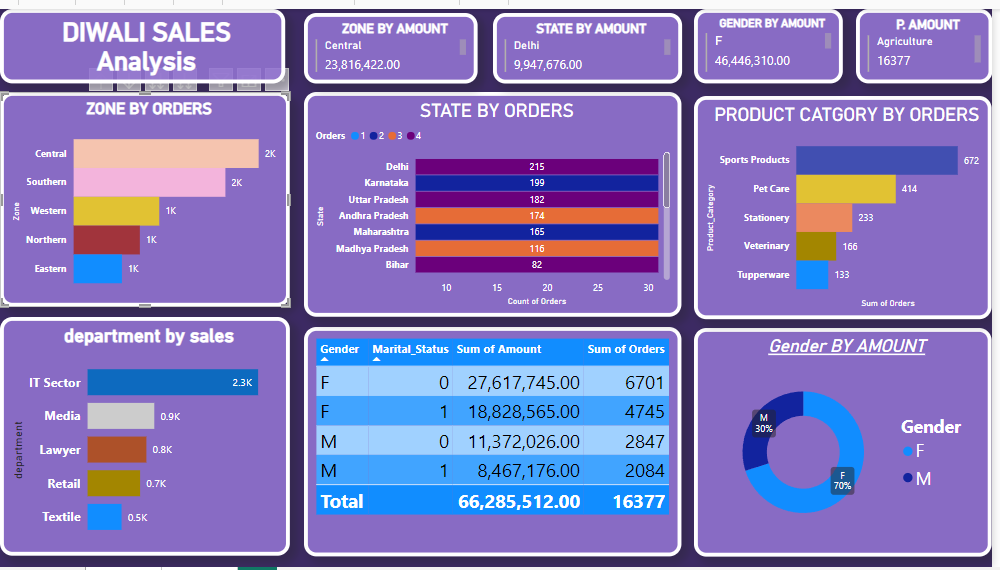

This screenshot's page, from the dashboard's own definition file:
{"tool":"powerbi","page":{"name":"Page 1","canvas":[1280,720],"ordinal":0},"visuals":[{"type":"tableEx","title":"Gender BY Orders","fields":{"Values":["Diwali Sales Data(1).Gender","Diwali Sales Data(1).Marital_Status","Sum(Diwali Sales Data(1).Amount)","Sum(Diwali Sales Data(1).Orders)"]},"box":[392.3,410.2,487.2,295.9],"z":0},{"type":"donutChart","title":"Gender BY AMOUNT","fields":{"Y":["Sum(Diwali Sales Data(1).Amount)"],"Category":["Diwali Sales Data(1).Gender"]},"box":[896,411.5,384,294.5],"z":1000},{"type":"barChart","title":"STATE BY ORDERS","fields":{"Category":["Diwali Sales Data(1).State"],"Y":["CountNonNull(Diwali Sales Data(1).Orders)"],"Series":["Diwali Sales Data(1).Orders"]},"box":[392.3,107.4,487.2,290.4],"z":2000},{"type":"barChart","title":"ZONE BY ORDERS","fields":{"Category":["Diwali Sales Data(1).Zone","Diwali Sales Data(1).Orders"],"Y":["CountNonNull(Diwali Sales Data(1).Zone)"]},"box":[0,107.4,374.4,276.6],"z":3000},{"type":"barChart","title":"PRODUCT CATGORY BY ORDERS","fields":{"Category":["Diwali Sales Data(1).Product_Category","Diwali Sales Data(1).Orders"],"Y":["Sum(Diwali Sales Data(1).Orders)"]},"box":[896,112,384,288],"z":4000},{"type":"clusteredBarChart","title":"department by sales","fields":{"Category":["Diwali Sales Data(1).department"],"Y":["Sum(Diwali Sales Data(1).Orders)"]},"box":[0,397.8,374.4,308.3],"z":5000},{"type":"multiRowCard","title":"GENDER BY AMOUNT","fields":{"Values":["Sum(Diwali Sales Data(1).Amount)","Diwali Sales Data(1).Gender"]},"box":[896,0,192,96],"z":6000},{"type":"multiRowCard","title":"P. AMOUNT","fields":{"Values":["Diwali Sales Data(1).department","Sum(Diwali Sales Data(1).Orders)"]},"box":[1104,0,176,96],"z":7000},{"type":"textbox","title":"DIWALI SALES Analysis","box":[0,0,368,96],"z":8000},{"type":"multiRowCard","title":"ZONE BY AMOUNT","fields":{"Values":["Diwali Sales Data(1).Zone","Sum(Diwali Sales Data(1).Amount)"]},"box":[392.3,5.5,224.3,90.8],"z":9000},{"type":"multiRowCard","title":"STATE BY AMOUNT","fields":{"Values":["Sum(Diwali Sales Data(1).Amount)","Diwali Sales Data(1).State"]},"box":[635.9,5.5,243.6,90.8],"z":10000}]}

Visuals, with their boxes in screenshot pixels (x1, y1, x2, y2), scaled from the page's 1280x720 canvas onto the 1000x570 screenshot:
"Gender BY Orders" tableEx: region(306, 325, 687, 559)
"Gender BY AMOUNT" donutChart: region(700, 326, 999, 559)
"STATE BY ORDERS" barChart: region(306, 85, 687, 315)
"ZONE BY ORDERS" barChart: region(0, 85, 292, 304)
"PRODUCT CATGORY BY ORDERS" barChart: region(700, 89, 999, 317)
"department by sales" clusteredBarChart: region(0, 315, 292, 559)
"GENDER BY AMOUNT" multiRowCard: region(700, 0, 850, 76)
"P. AMOUNT" multiRowCard: region(862, 0, 999, 76)
"DIWALI SALES Analysis" textbox: region(0, 0, 288, 76)
"ZONE BY AMOUNT" multiRowCard: region(306, 4, 482, 76)
"STATE BY AMOUNT" multiRowCard: region(497, 4, 687, 76)
